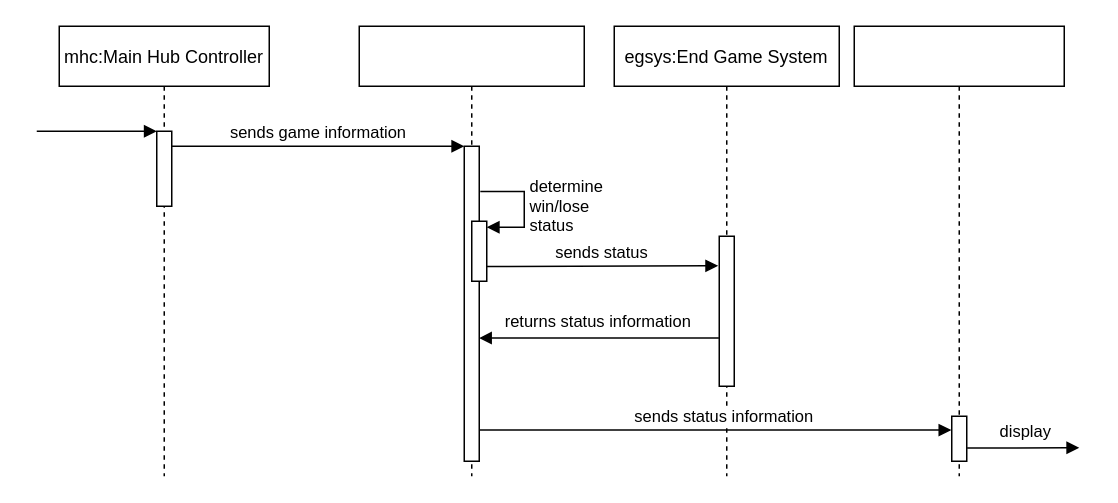
Some shapes in this 1118 by 503 pixel diagram are drawn without their labels. Here are the shapes that lost their labels. From the top down, the box of each, then its label:
(358, 25, 584, 476): egc:End Game Controller
(853, 25, 1064, 476): egscr:End Game Screen
